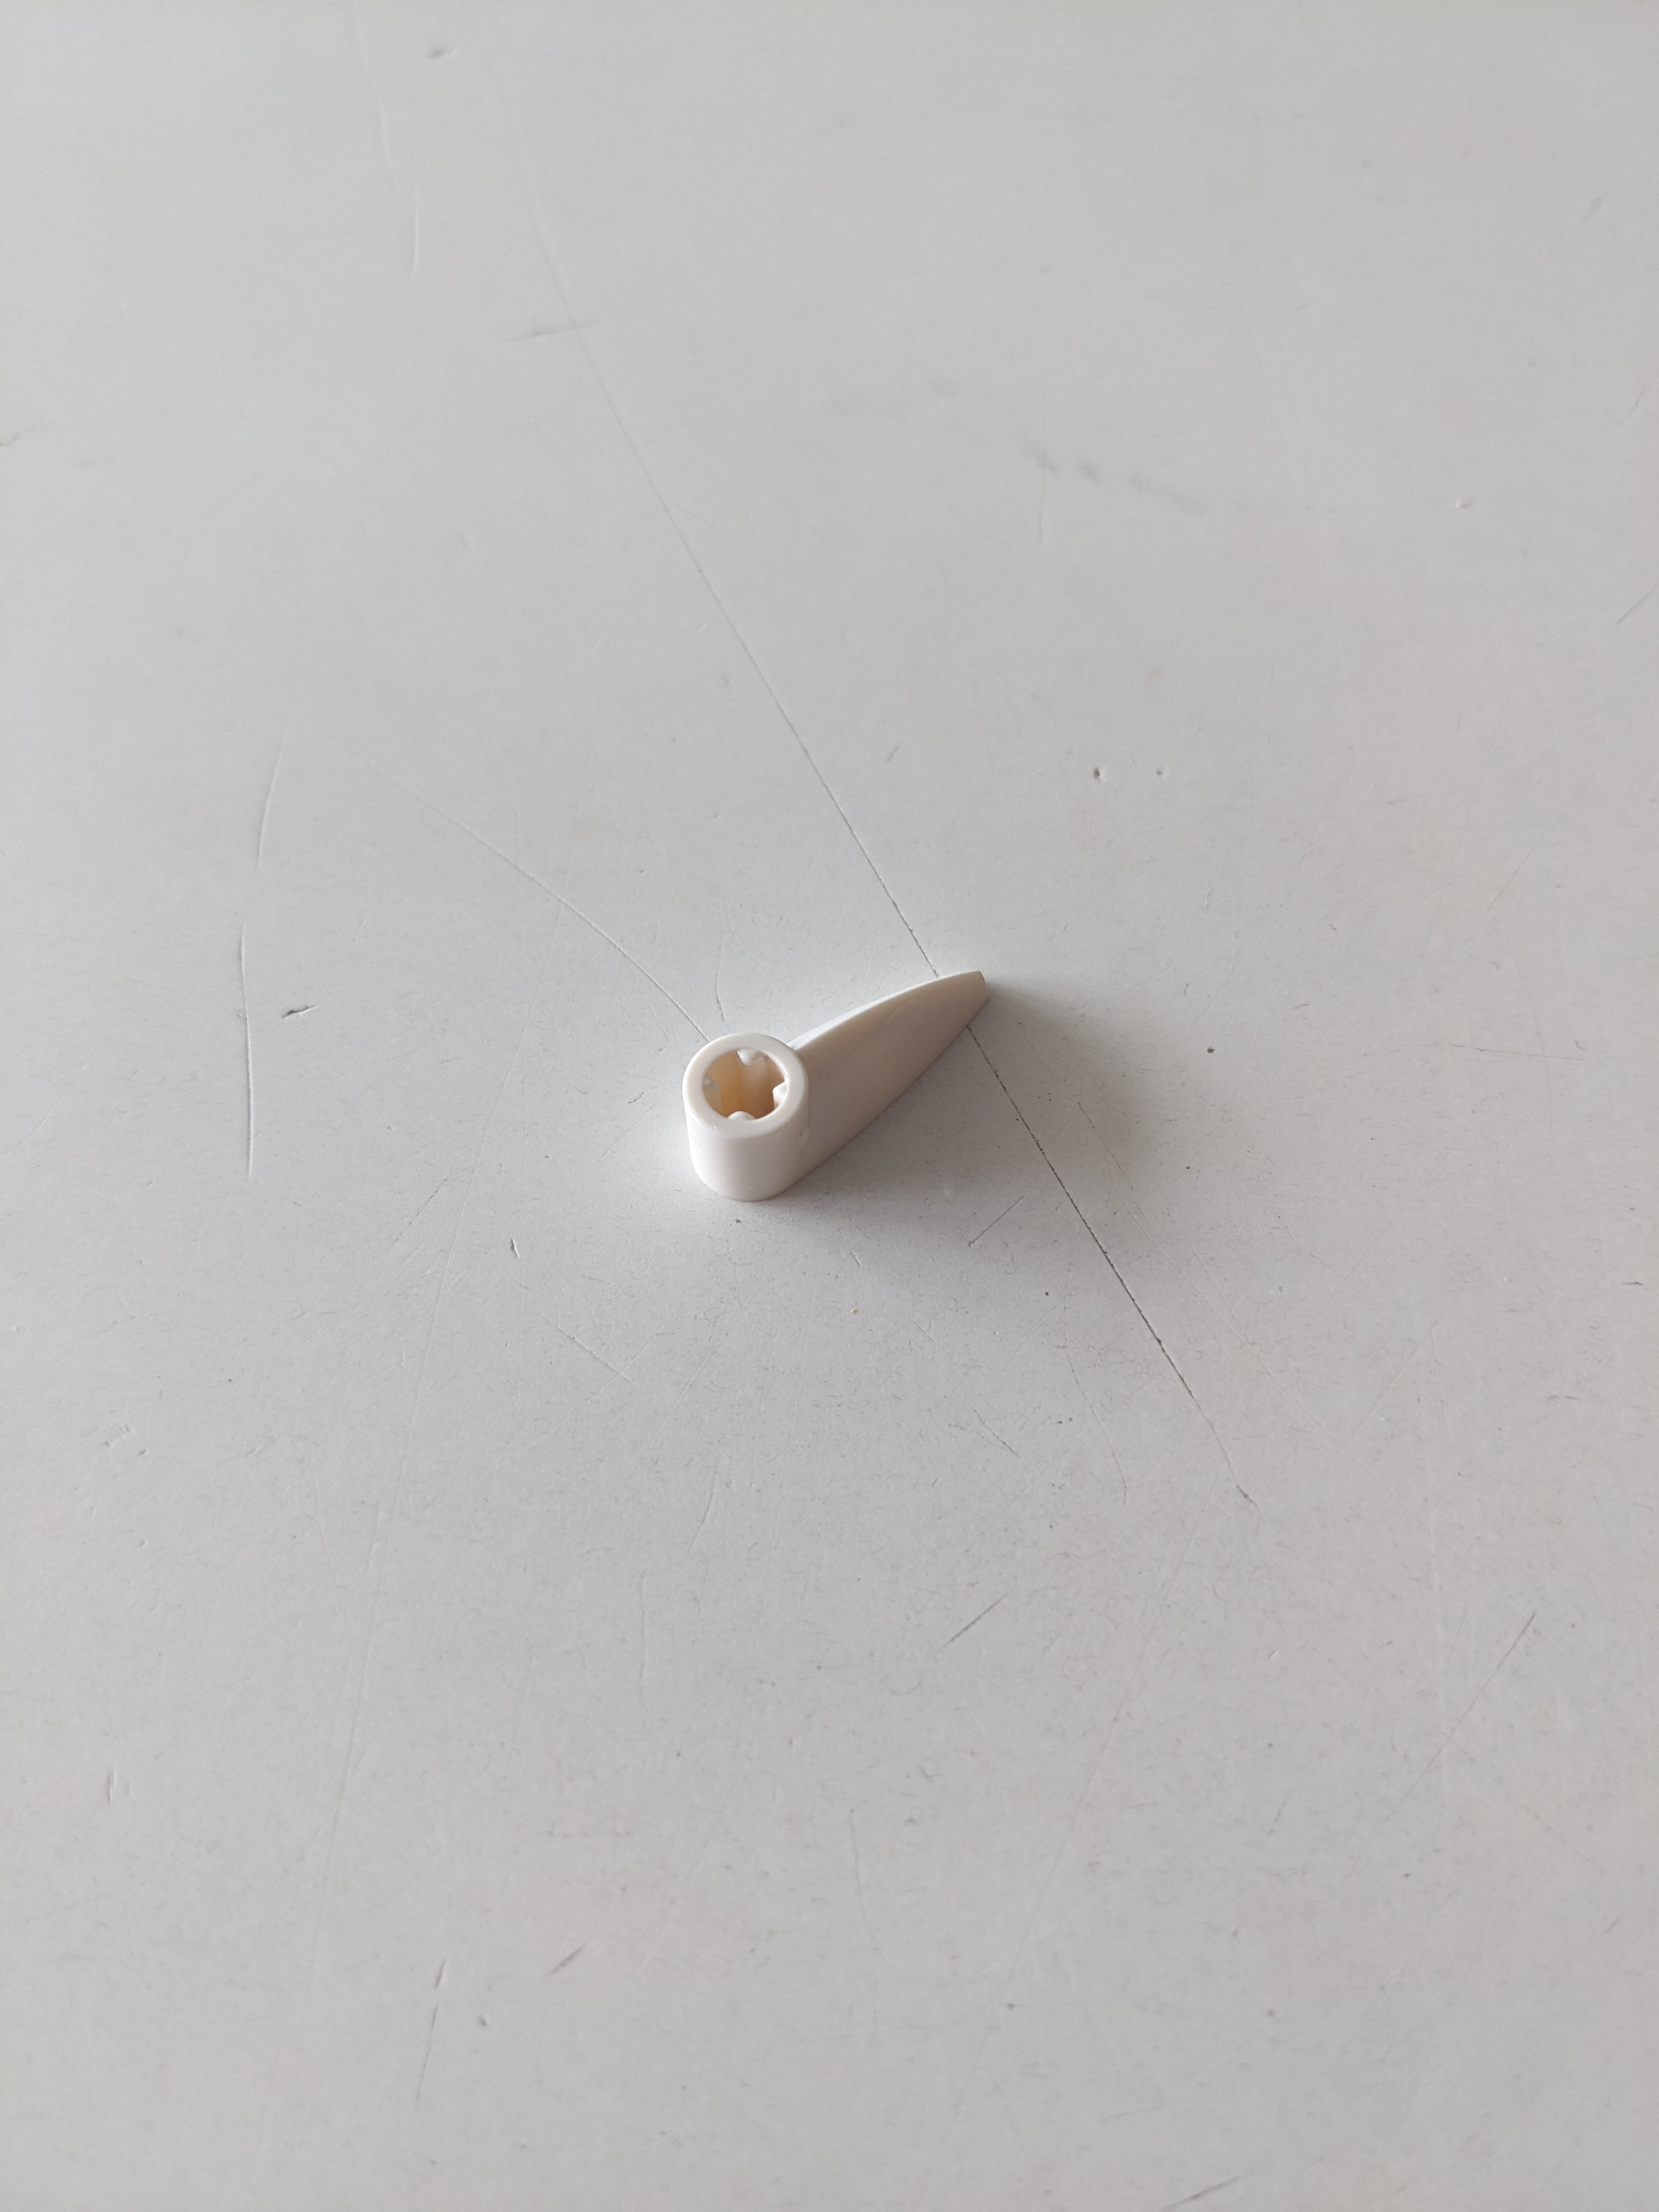Kappe: (673, 951, 1002, 1223)
